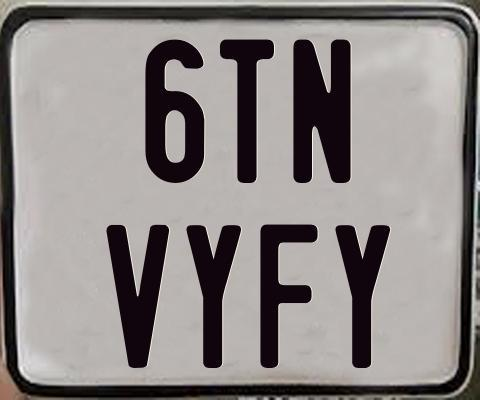6: (145, 39, 204, 189)
F: (260, 221, 318, 368)
N: (290, 38, 354, 183)
T: (219, 39, 273, 188)
V: (104, 225, 169, 374)
Y: (332, 224, 389, 371), (183, 223, 239, 366)
